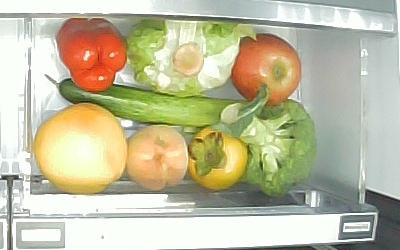apple: (233, 34, 302, 106)
broccoli: (224, 102, 317, 199)
cucumber: (40, 72, 248, 128)
grapefruit: (34, 103, 127, 194)
lettuce: (127, 20, 242, 95)
paprika: (56, 18, 128, 92)
peach: (125, 125, 188, 193)
persimmon: (187, 125, 249, 191)
